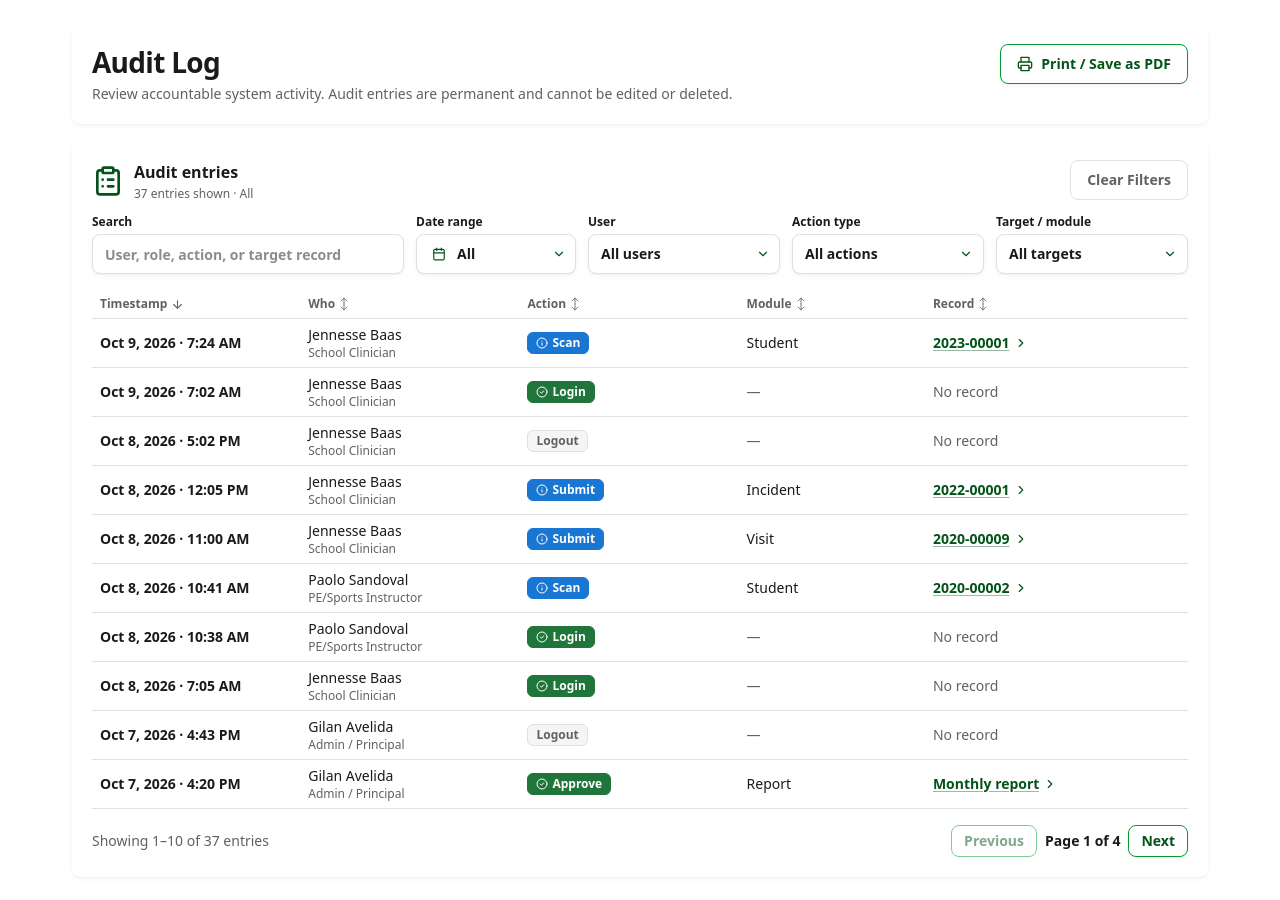
Audit Log › moves through audit pages without rendering the full list at once
Check: the table named "Filtered audit log" is shown, box x1=92 y1=290 x2=1188 y2=808
Click the button "Next" at {"x": 1158, "y": 841}, box x1=1128 y1=825 x2=1188 y2=857
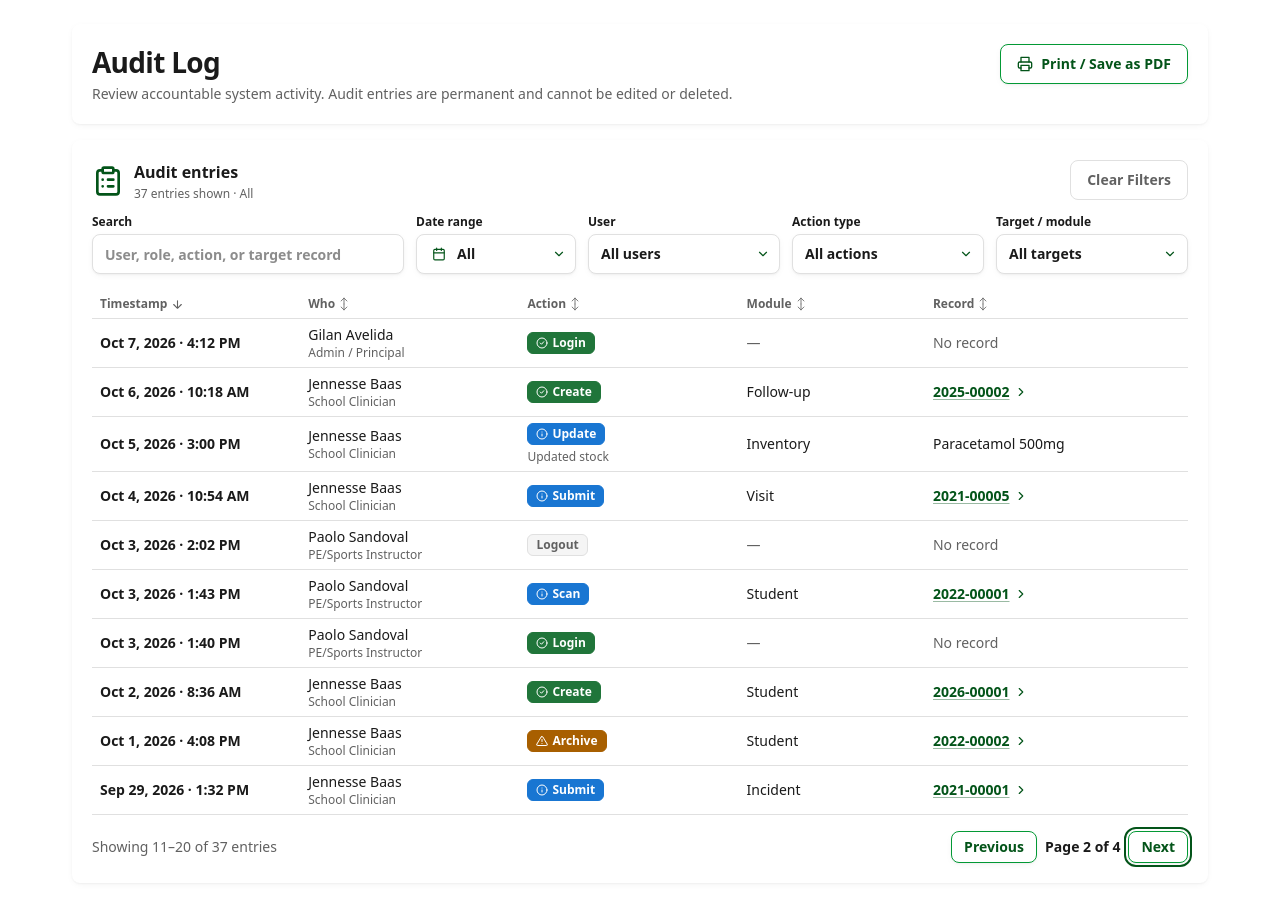
Check: the text "Page 2 of 4" is shown, box x1=1045 y1=837 x2=1120 y2=857
Check: the text "Showing 11–20 of 37 entries" is shown, box x1=92 y1=837 x2=277 y2=857
